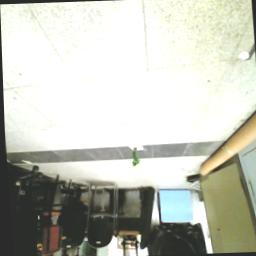herb: (130, 149, 141, 168)
